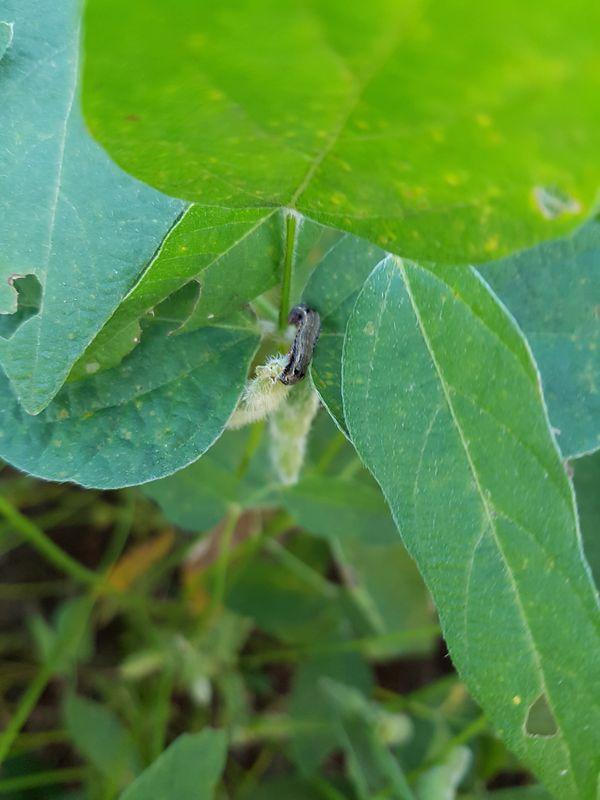Spodoptera_albula: (262, 297, 338, 391)
